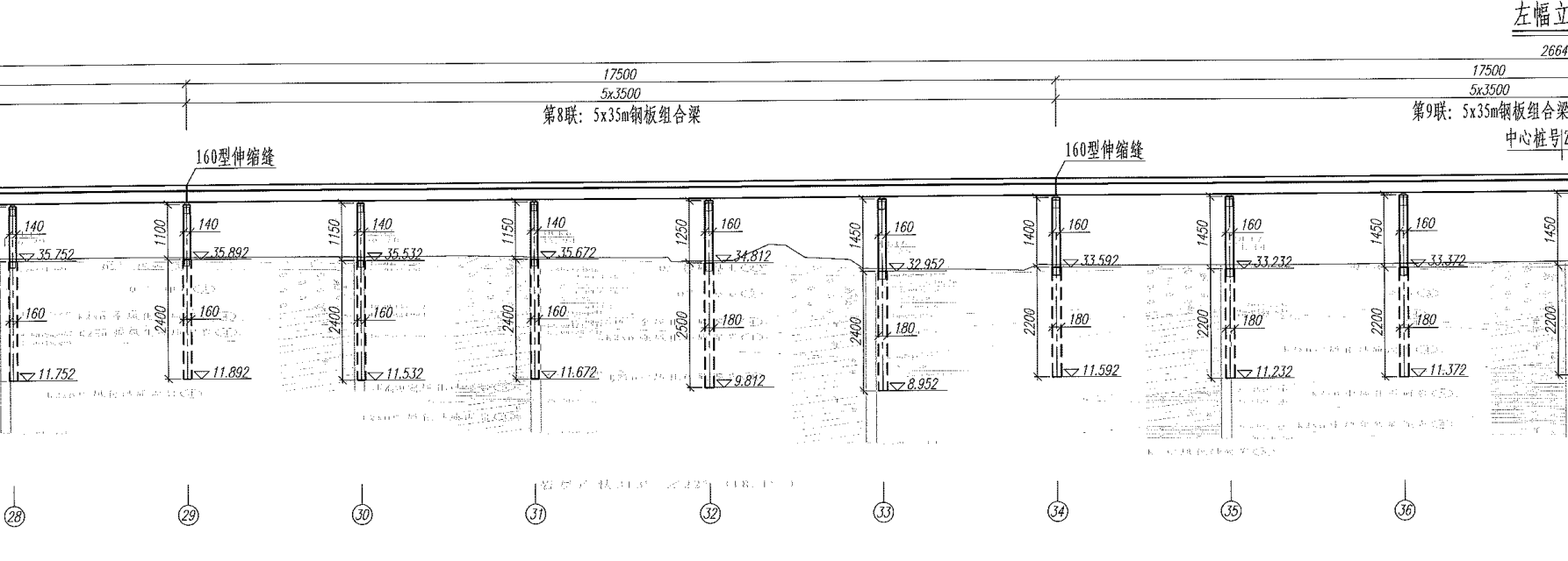B: (178, 63, 1063, 85)
C: (515, 193, 608, 533), (1, 195, 91, 536), (1040, 188, 1131, 525), (1205, 192, 1297, 523), (866, 189, 954, 532), (690, 190, 779, 527), (1385, 184, 1468, 526), (170, 194, 252, 533), (343, 195, 421, 540), (693, 189, 776, 412)
